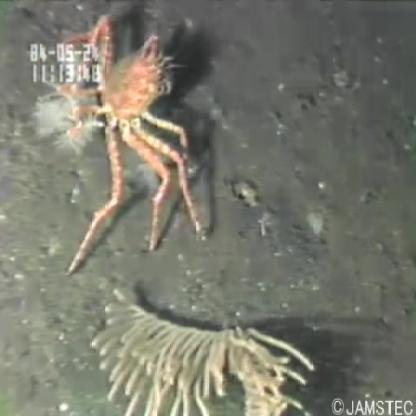Bio: (30, 12, 212, 276), (85, 281, 317, 415)
